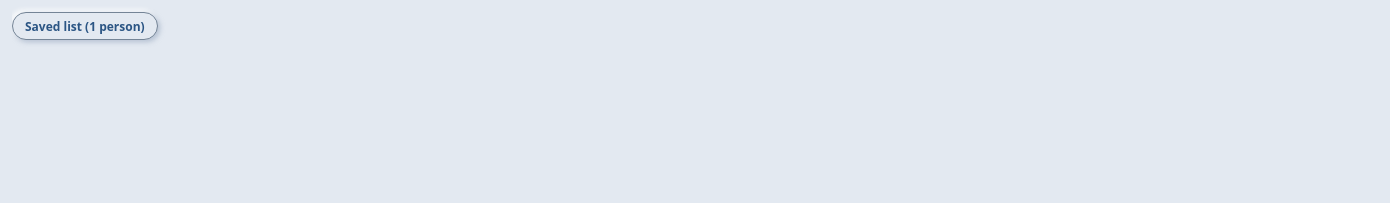
Test: removing an address › deletes the list when it is the last address, since a list is never saved empty
The width and height of the screenshot is (1390, 203).
Click the button "Saved list (1 person)" at (85, 26), box [12,12,158,40]
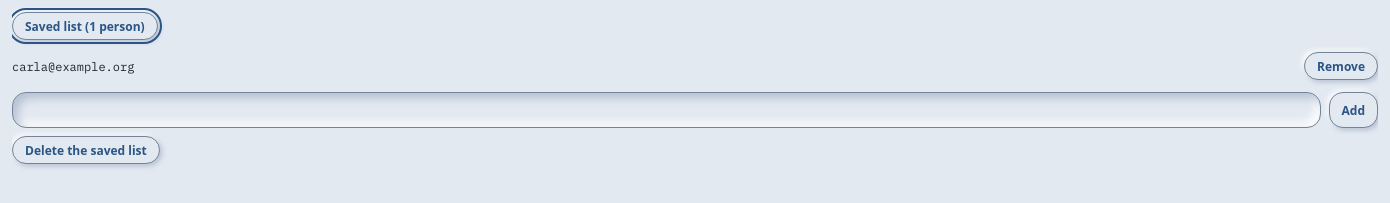
Click the button with aria-label "Remove carla@example.org from the saved list" at (1341, 66), box [1304,52,1378,80]
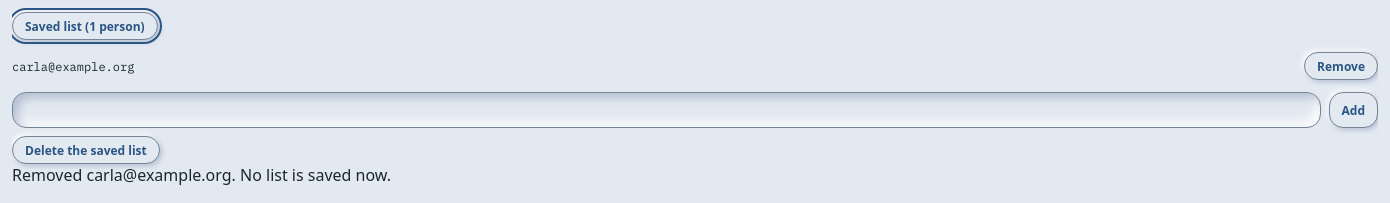
Result: the message reads "Removed carla@example.org. No list is saved now." at [12,164,391,186]
